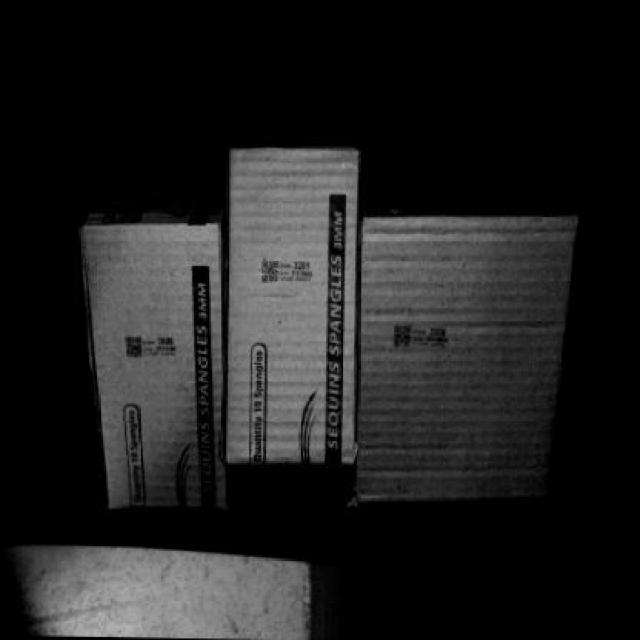cardboxes: (367, 215, 570, 513), (81, 222, 234, 510), (230, 148, 368, 458)
